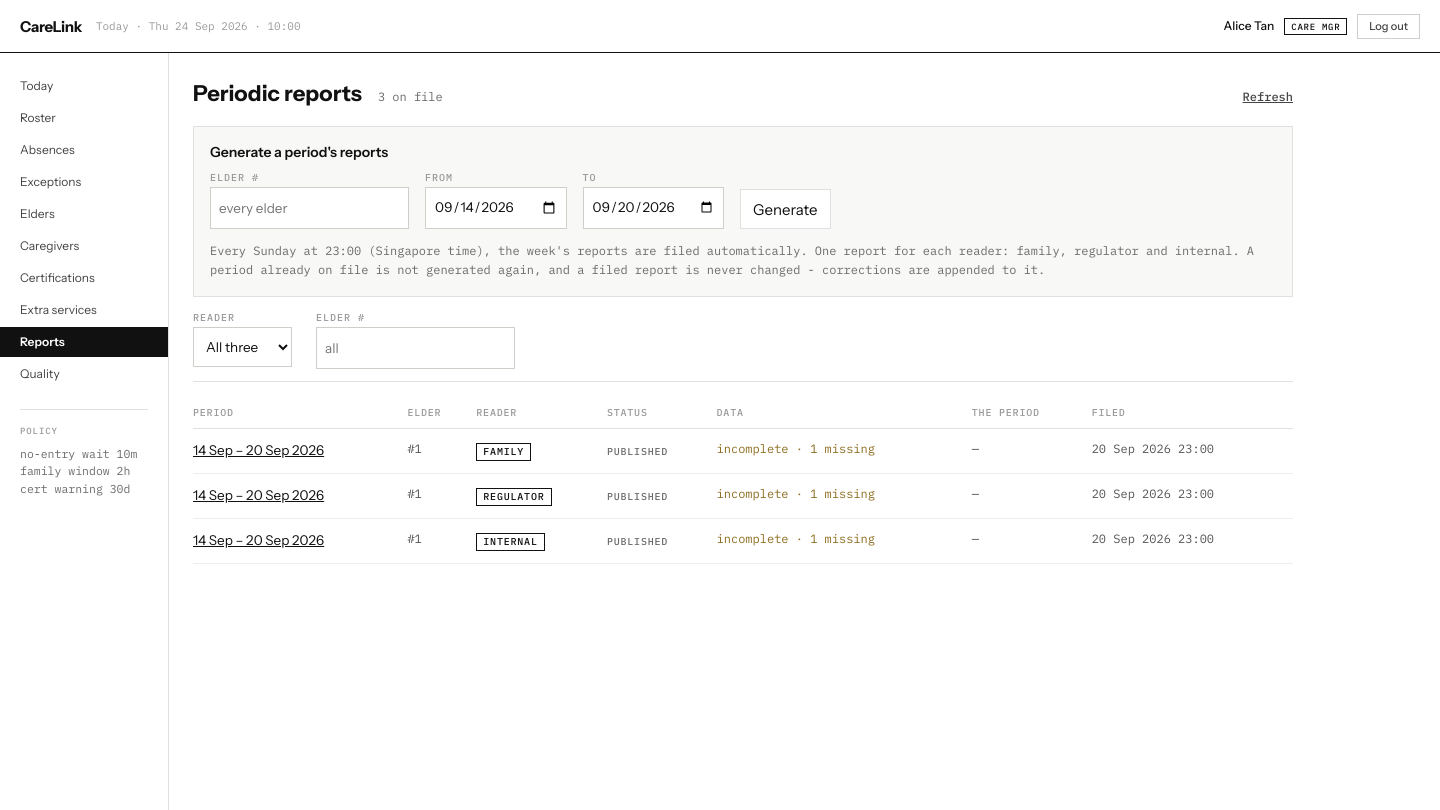
one report › opens from the list with its sections in order, the gap named at the top and the disclaimer under it
Click the 1st link "14 Sep – 20 Sep 2026" at (259, 450), box [193, 442, 324, 458]
(page scrolled)
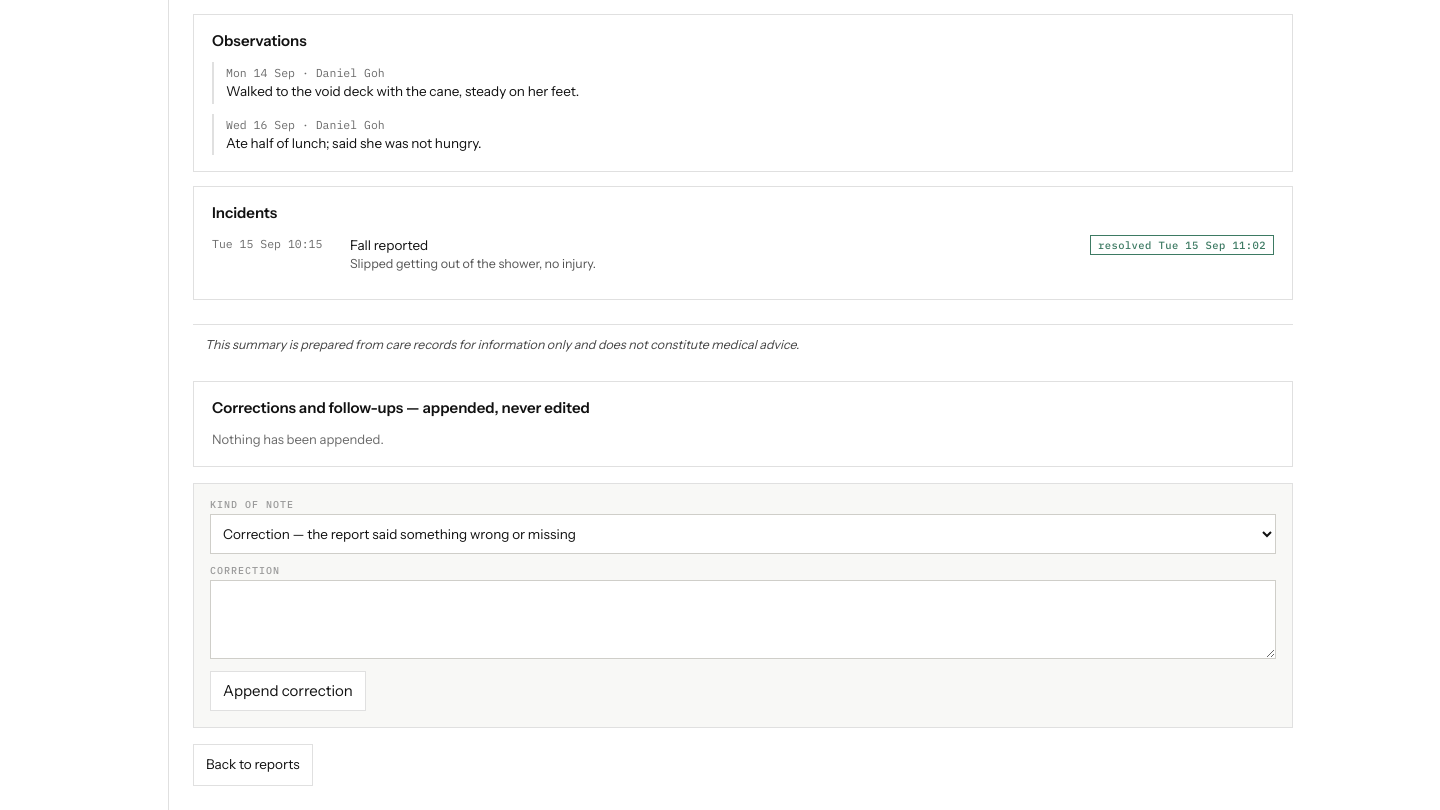
Expected: the text "This summary is prepared from care records for information only and does not constitute medical advice." is shown, [205, 337, 799, 352]
Expected: the text "Nothing has been appended." is shown, [212, 431, 384, 447]
